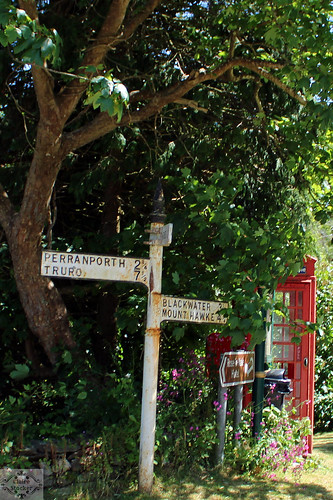phone booth: (231, 253, 318, 454)
sign: (36, 245, 154, 281), (156, 293, 236, 328), (215, 349, 258, 386)
vegetation: (10, 1, 333, 494)
